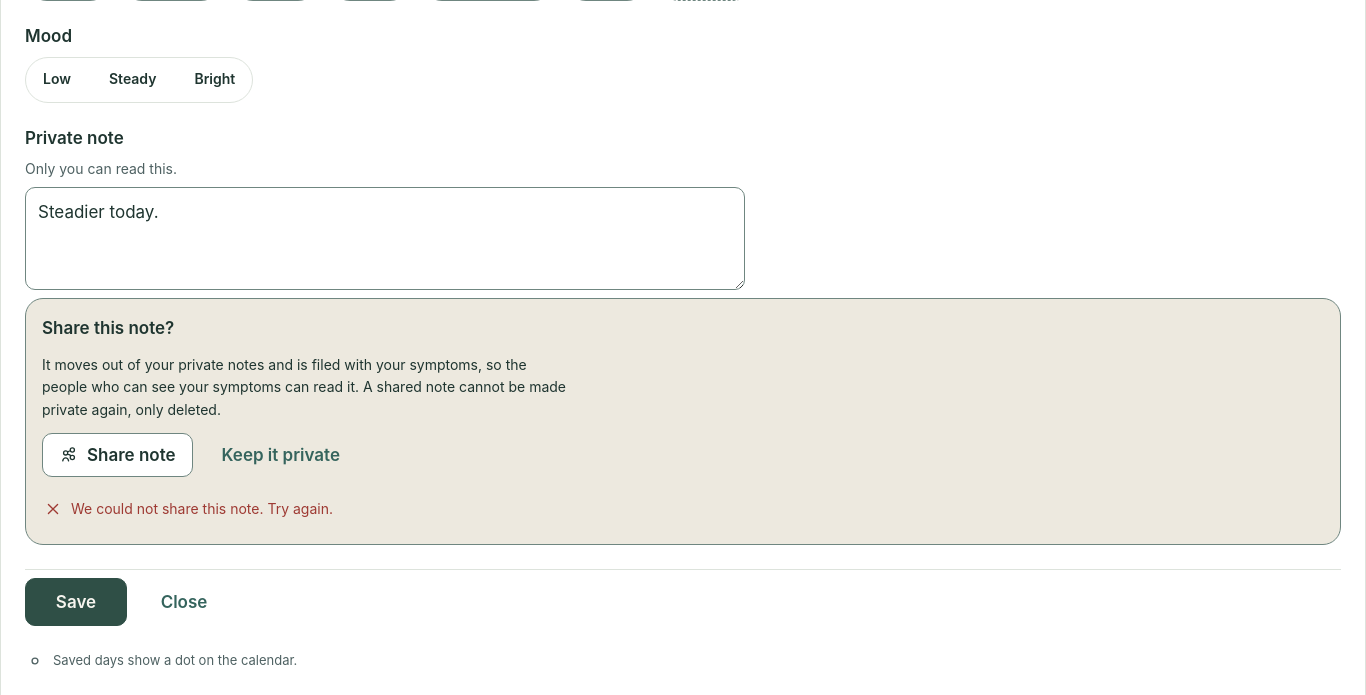
it: DaySheet: notes already shared and the share action › keeps the confirm step open and says why when a share fails
The image size is (1366, 695).
(page scrolled)
Expected: the text "We could not share this note. Try again." is shown, left=71, top=500, right=333, bottom=517
Click the button "Keep it private": (281, 455) left=205, top=433, right=357, bottom=477
(page scrolled)
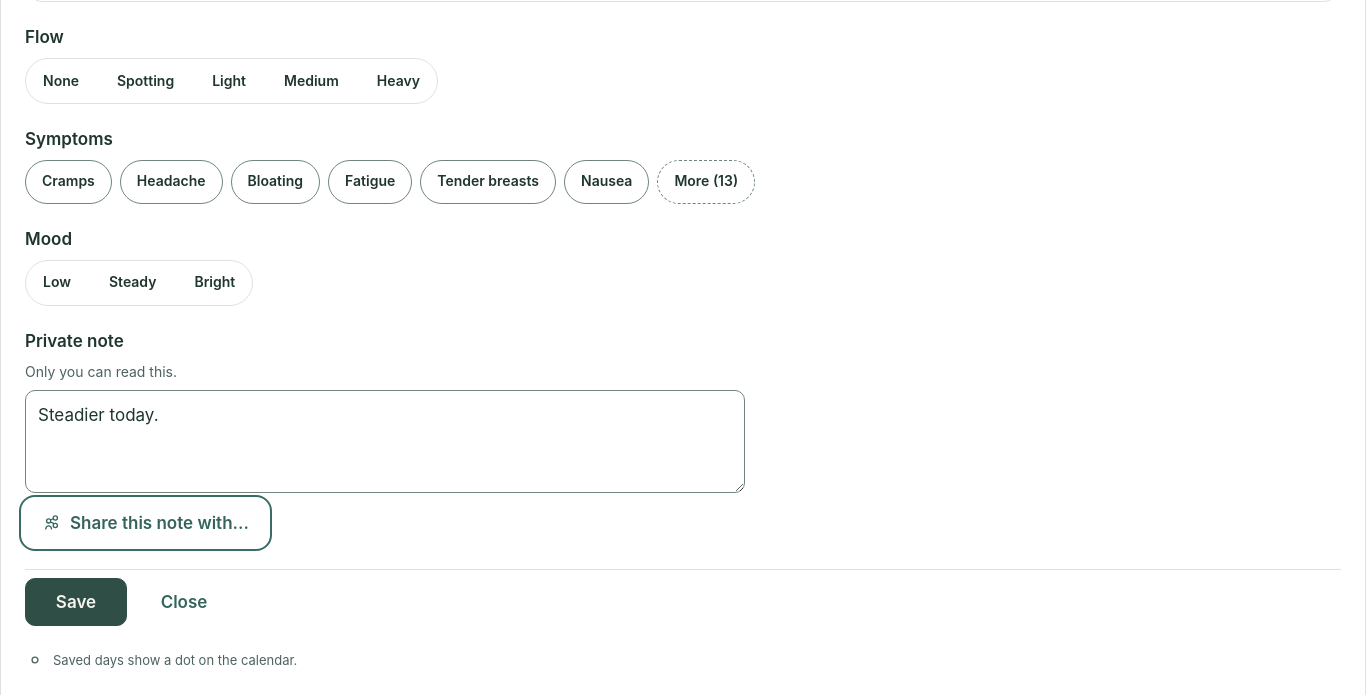
Expected: the button "Share this note with..." is enabled, left=25, top=501, right=266, bottom=545
